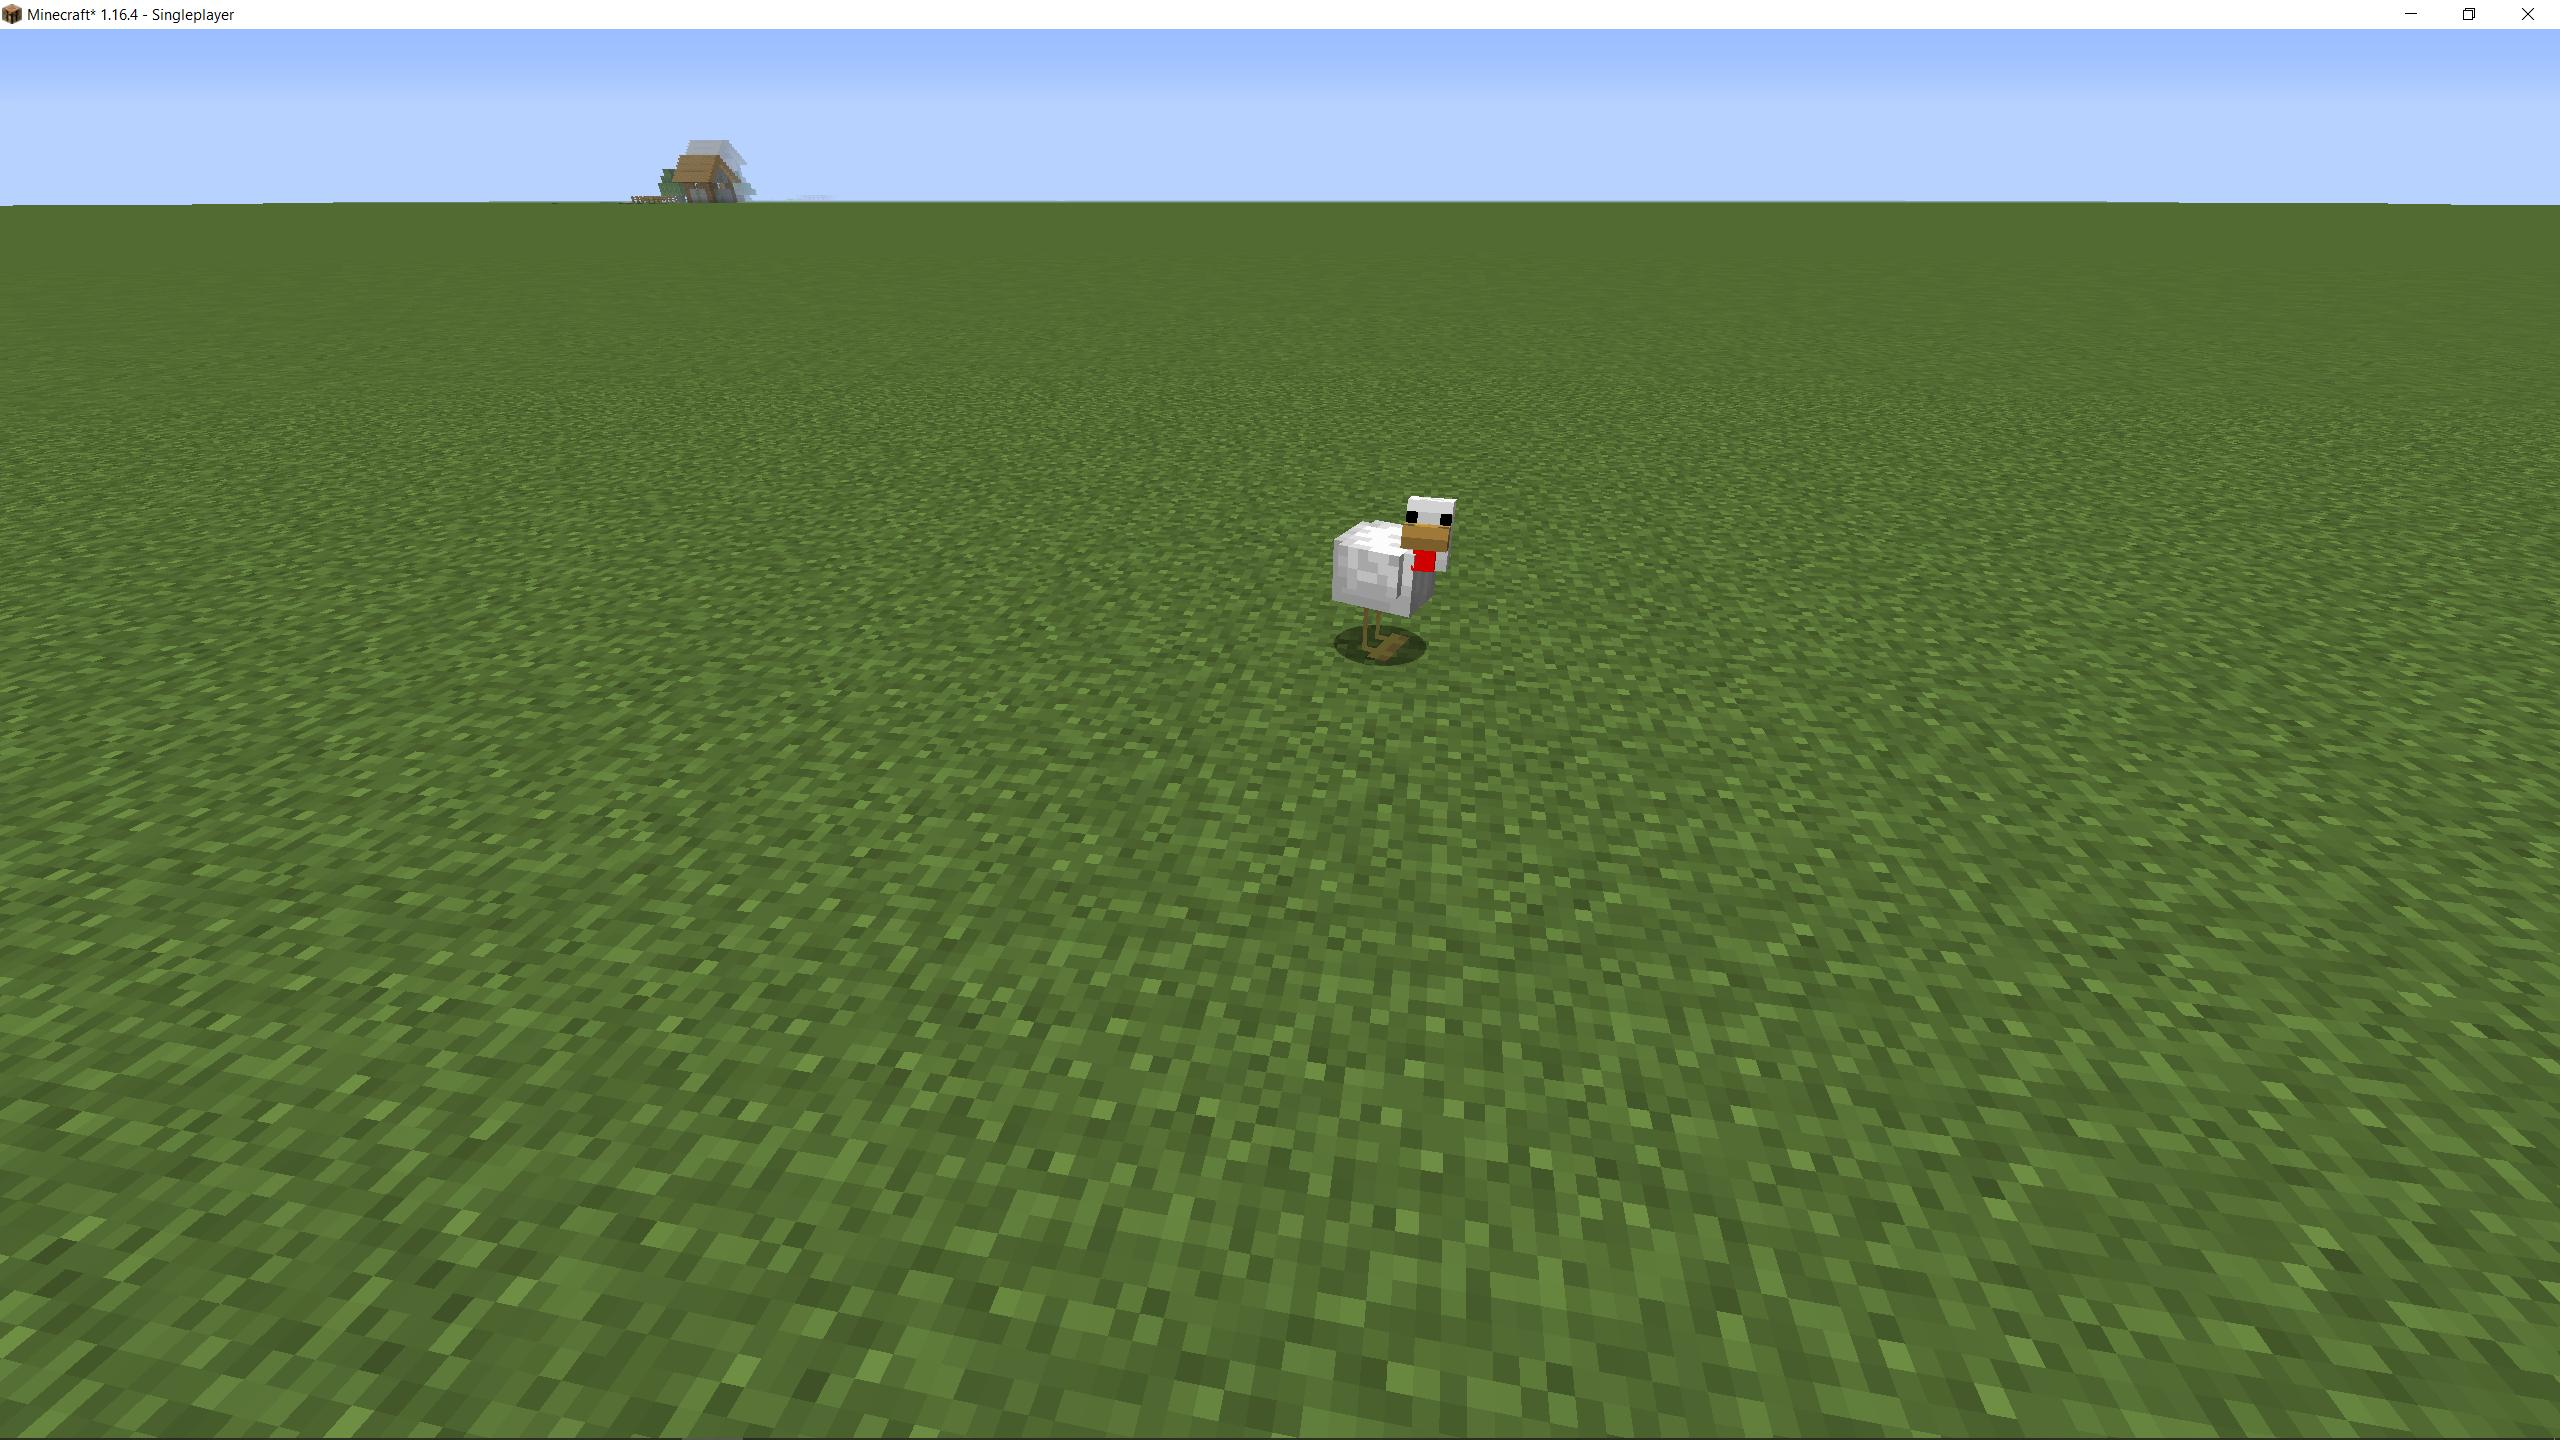chicken: (1326, 489, 1459, 672)
